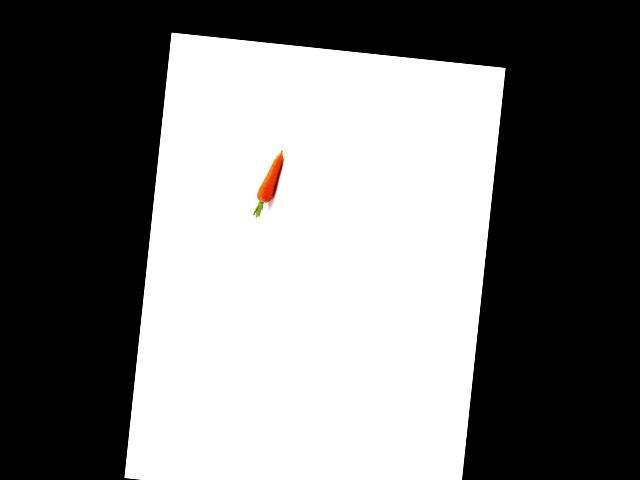carrot: (249, 145, 289, 210)
